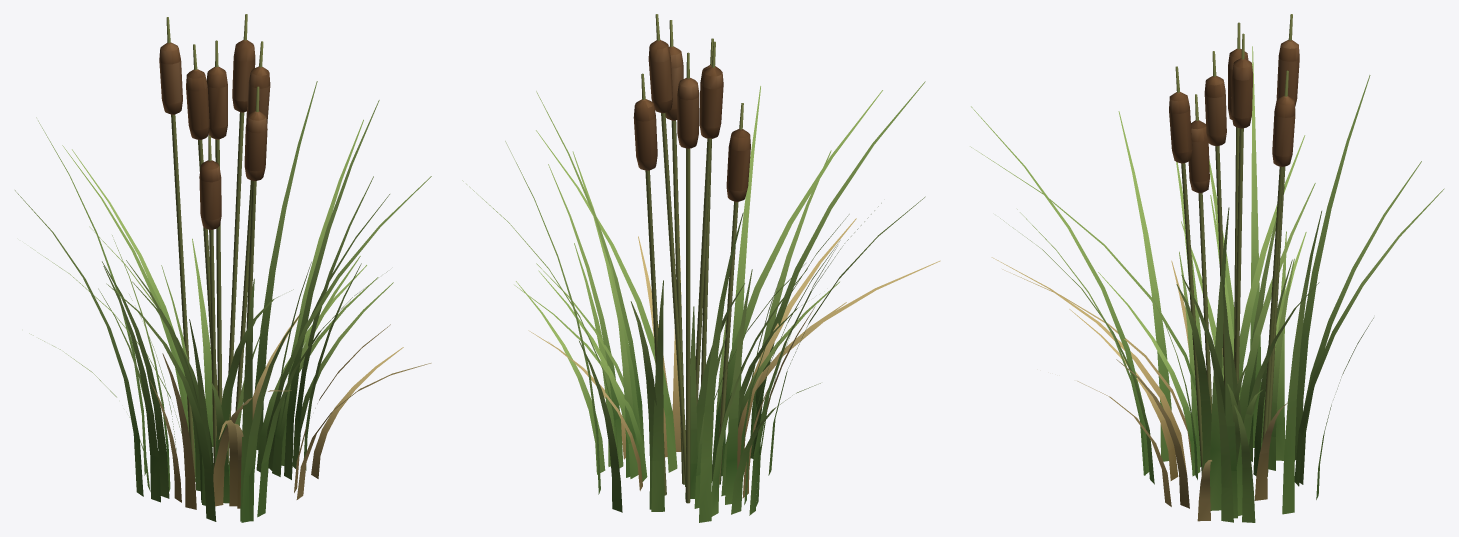
Rendered from PLN_Cattails.fbx.
3 renders of one model, left to right at view 1: azimuth 30°, elevation 25°; view 2: azimuth 150°, elevation 25°; view 3: azimuth 270°, elevation 25°, orthographic.
Parts seen in each view (by area): view 1: PLN_Cattails; view 2: PLN_Cattails; view 3: PLN_Cattails.
Boxes of the visible parts, box(x1,y1,x2,y2) form: PLN_Cattails: box(15, 14, 431, 522); PLN_Cattails: box(462, 14, 940, 522); PLN_Cattails: box(970, 14, 1444, 522).
Bounding box in the file's own units: 1.33 × 1.53 × 1.42.
